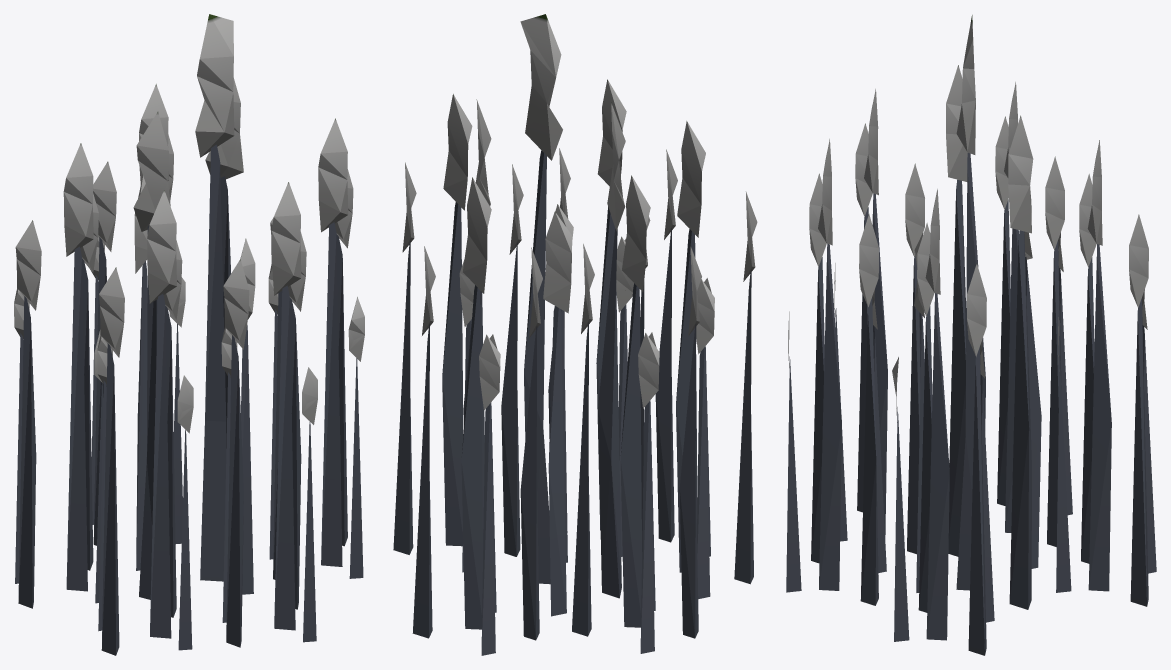
Rendered from Millet_02.fbx.
3 views of the same model, side by side, from view 1: azimuth 30°, elevation 25°; view 2: azimuth 150°, elevation 25°; view 3: azimuth 270°, elevation 25° (orthographic).
Parts seen in each view (by area): view 1: Millet_02; view 2: Millet_02; view 3: Millet_02.
Part boxes in pixels (box(x1,y1,x2,y2)): Millet_02: box(14, 14, 364, 655); Millet_02: box(393, 14, 757, 655); Millet_02: box(786, 15, 1156, 655).
Bounding box in the file's own units: 0.3513 × 0.5941 × 0.3485.
